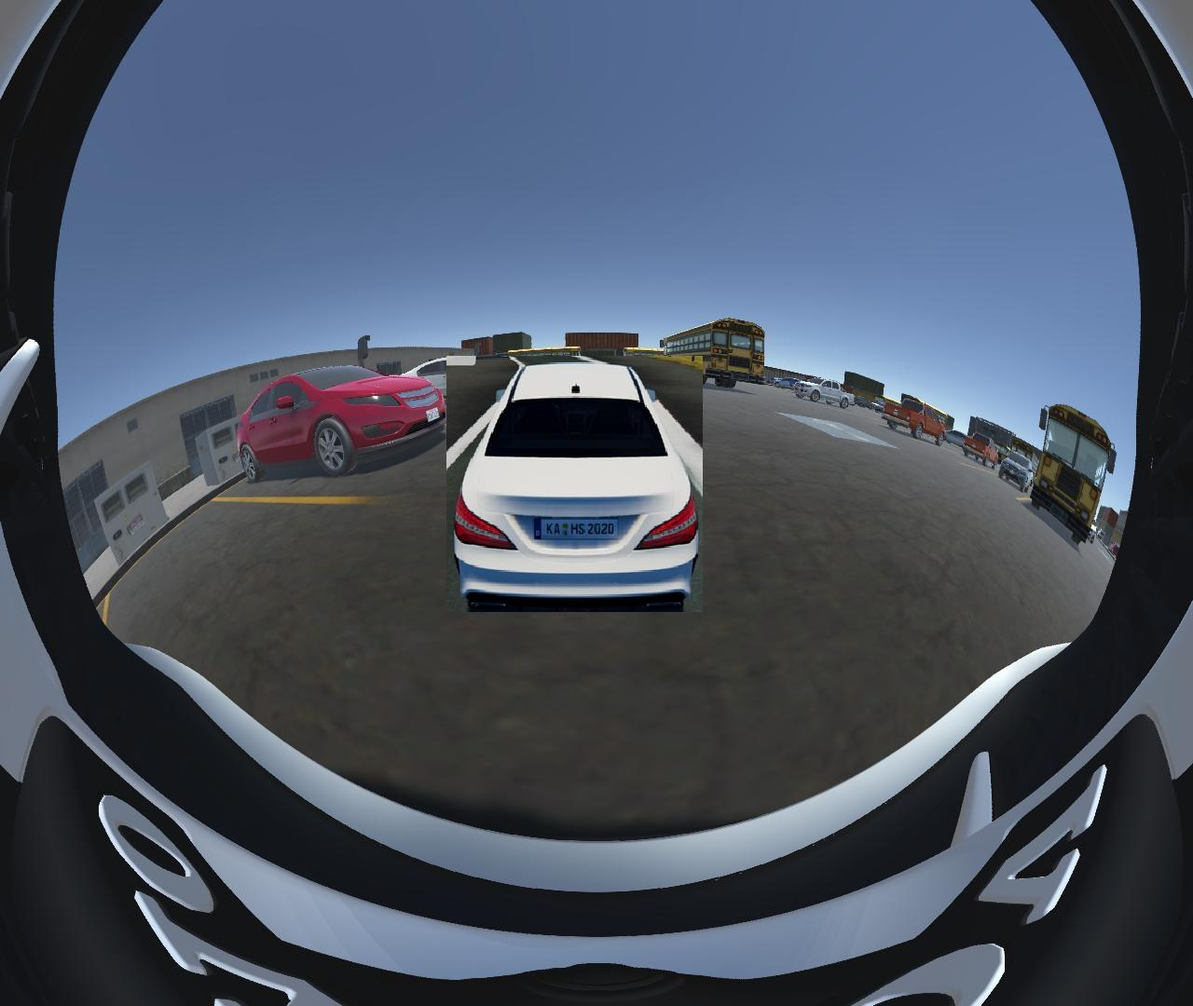Car: (447, 364, 704, 603)
